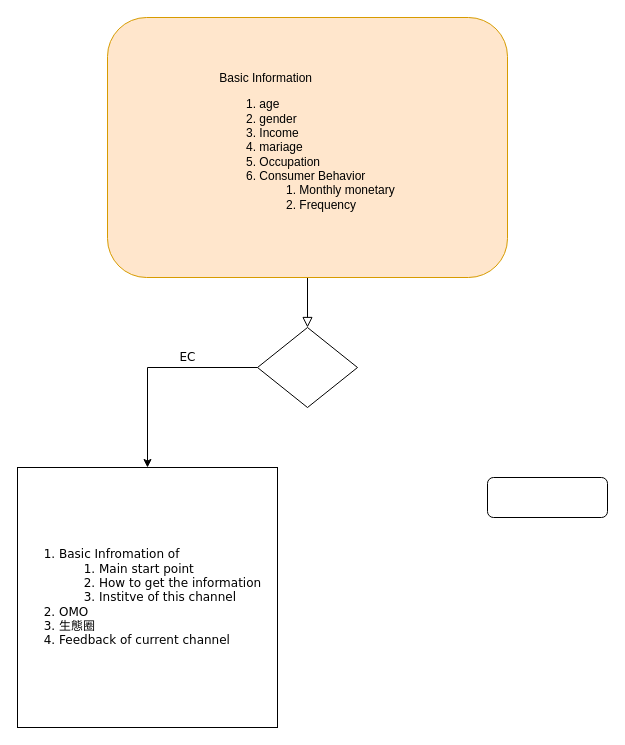
Some shapes in this 625 by 745 pixel diagram are drawn without their labels. The centre of each missing label's shape, as x and y in pixels:
Channel: (x=307, y=367)
Plug in lamp: (x=547, y=497)
